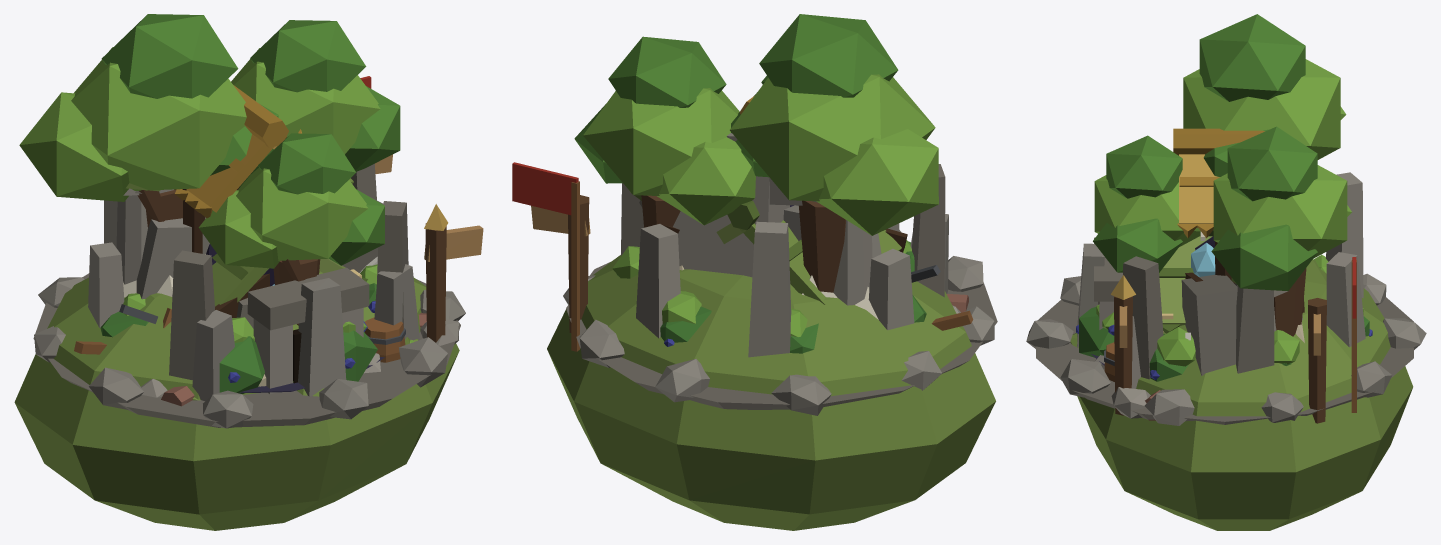
Rendered from landmarks.glb.
The picture shows the model from 3 angles, left to right: view 1: azimuth 30°, elevation 25°; view 2: azimuth 150°, elevation 25°; view 3: azimuth 270°, elevation 25°; orthographic projection. The views are drawn at different scales.
Parts seen in each view (by area): view 1: discovery_oakwood, discovery_barrow, discovery_starstone, discovery_stones, discovery_outcrop, discovery_grove, discovery_shrine, discovery_ruins, discovery_cart, discovery_hermit, discovery_wanderers; view 2: discovery_barrow, discovery_oakwood, discovery_stones, discovery_starstone, discovery_outcrop, discovery_wanderers, discovery_grove, discovery_ruins, discovery_hermit, discovery_cart; view 3: discovery_oakwood, discovery_barrow, discovery_starstone, discovery_stones, discovery_outcrop, discovery_shrine, discovery_grove, discovery_hermit, discovery_wanderers, discovery_cart.
Boxes of the visible parts, left/top/right/bottom form: discovery_oakwood: left=19, top=14, right=483, bottom=342; discovery_barrow: left=14, top=264, right=459, bottom=530; discovery_starstone: left=33, top=244, right=465, bottom=428; discovery_stones: left=88, top=164, right=418, bottom=400; discovery_outcrop: left=119, top=154, right=458, bottom=397; discovery_grove: left=100, top=187, right=377, bottom=394; discovery_shrine: left=174, top=85, right=301, bottom=253; discovery_ruins: left=116, top=178, right=353, bottom=284; discovery_cart: left=74, top=254, right=405, bottom=362; discovery_hermit: left=212, top=254, right=413, bottom=343; discovery_wanderers: left=123, top=76, right=426, bottom=406; discovery_barrow: left=547, top=214, right=995, bottom=530; discovery_oakwood: left=574, top=14, right=938, bottom=292; discovery_stones: left=621, top=164, right=945, bottom=357; discovery_starstone: left=563, top=205, right=997, bottom=415; discovery_outcrop: left=531, top=176, right=960, bottom=332; discovery_wanderers: left=512, top=162, right=968, bottom=351; discovery_grove: left=612, top=240, right=926, bottom=353; discovery_ruins: left=630, top=133, right=872, bottom=305; discovery_hermit: left=716, top=201, right=901, bottom=304; discovery_cart: left=663, top=225, right=973, bottom=330; discovery_oakwood: left=1093, top=14, right=1351, bottom=415; discovery_barrow: left=1077, top=237, right=1413, bottom=530; discovery_starstone: left=1026, top=236, right=1426, bottom=425; discovery_stones: left=1070, top=172, right=1365, bottom=379; discovery_outcrop: left=1094, top=274, right=1326, bottom=423; discovery_shrine: left=1173, top=128, right=1264, bottom=283; discovery_grove: left=1076, top=254, right=1372, bottom=381; discovery_hermit: left=1159, top=230, right=1213, bottom=333; discovery_wanderers: left=1145, top=257, right=1356, bottom=420; discovery_cart: left=1104, top=272, right=1304, bottom=381.
Size of the model in its own units: 2.2 by 2.68 by 2.17.
